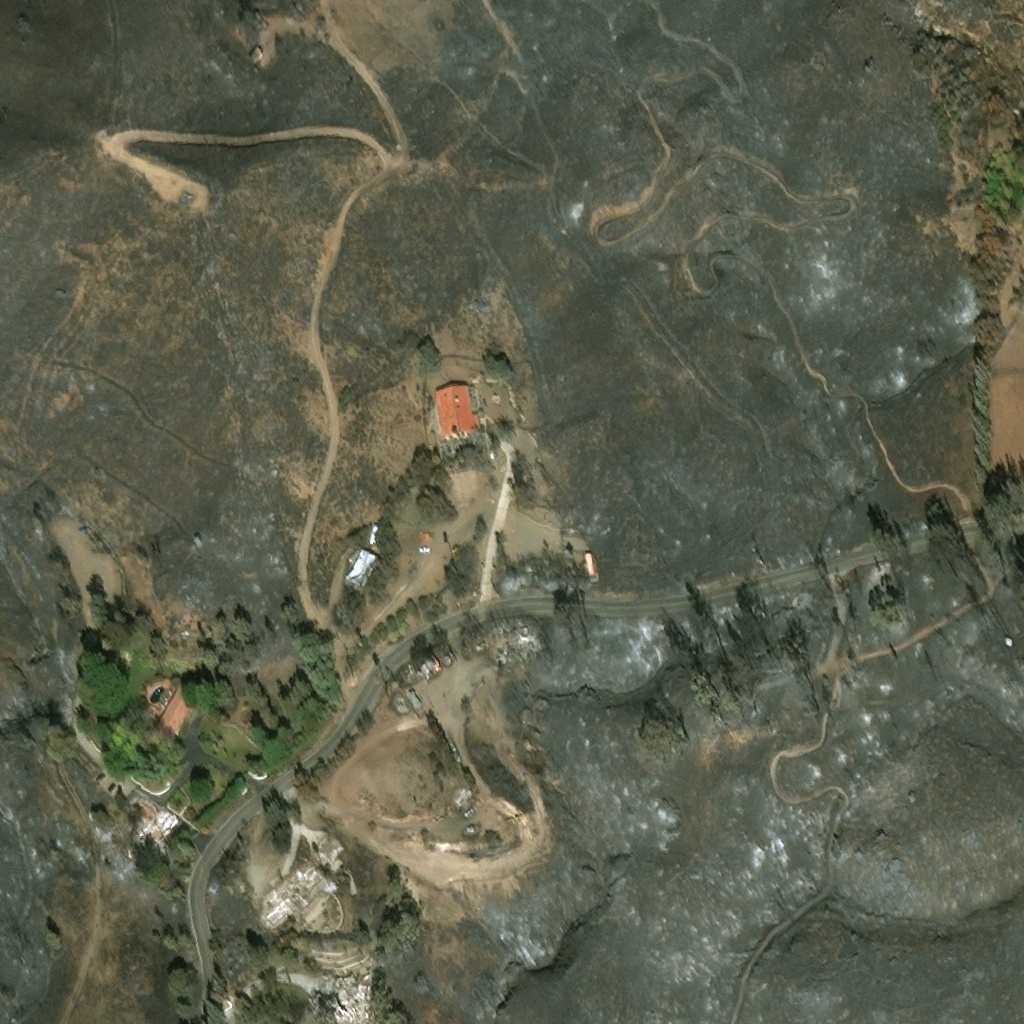0 no-damage: (434, 383, 483, 441), (153, 683, 201, 739), (108, 597, 125, 616), (194, 538, 203, 548)
2 major-damage: (344, 550, 381, 591)
3 destroyed: (259, 860, 323, 927), (128, 793, 180, 852), (521, 458, 561, 507), (331, 975, 371, 1023), (315, 831, 342, 859), (455, 789, 477, 811), (308, 994, 331, 1012), (507, 641, 522, 664), (244, 41, 262, 59), (393, 665, 412, 682), (251, 7, 267, 27), (408, 689, 422, 710)
